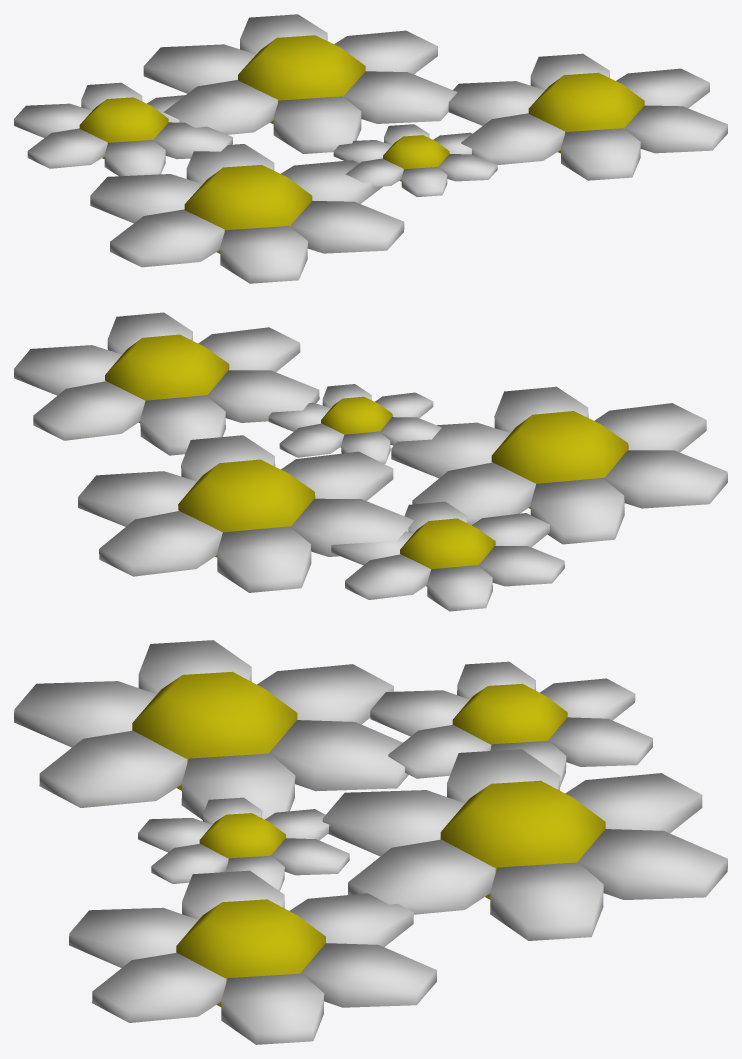
The model's file is cicek-1.fbx.
3 views of the same model, one above another, from view 1: azimuth 30°, elevation 25°; view 2: azimuth 150°, elevation 25°; view 3: azimuth 270°, elevation 25° (orthographic). The views are drawn at different scales.
Parts seen in each view (by area): view 1: cicek-1; view 2: cicek-1; view 3: cicek-1.
Part boxes in pixels (bbox=[...]): cicek-1: bbox=[14, 14, 727, 283]; cicek-1: bbox=[14, 312, 727, 611]; cicek-1: bbox=[14, 640, 727, 1044].
Size of the model in its own units: 70.45 by 5.88 by 54.69.
